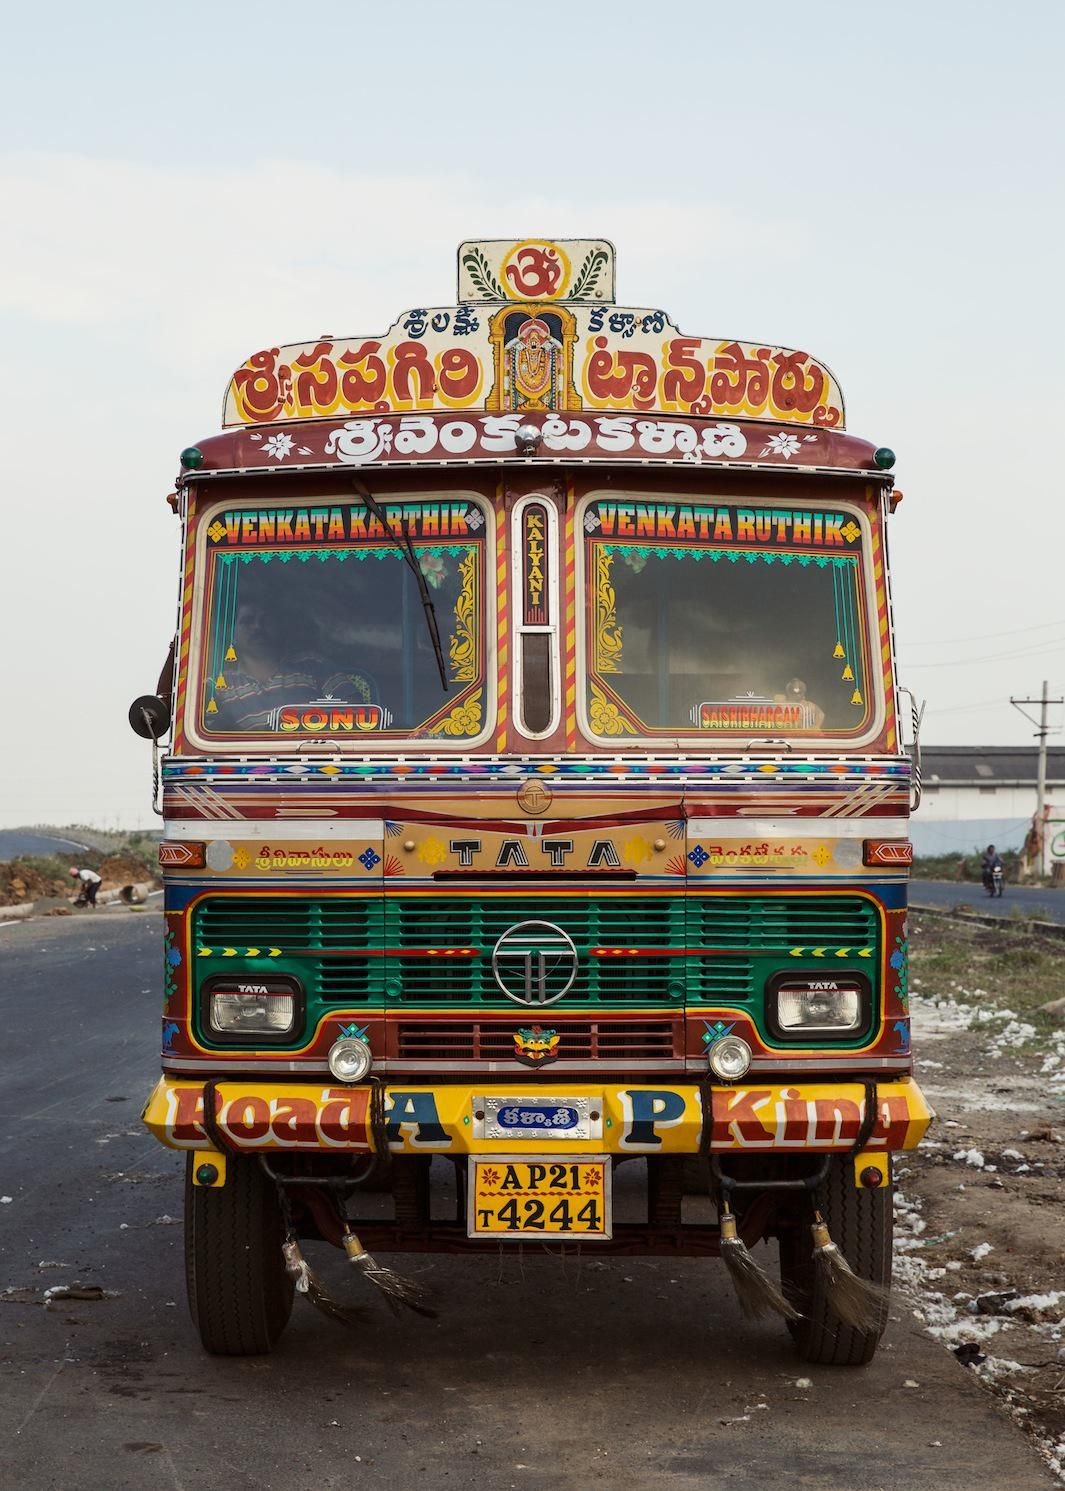doublelinenumberplate: (461, 1152, 618, 1243)
